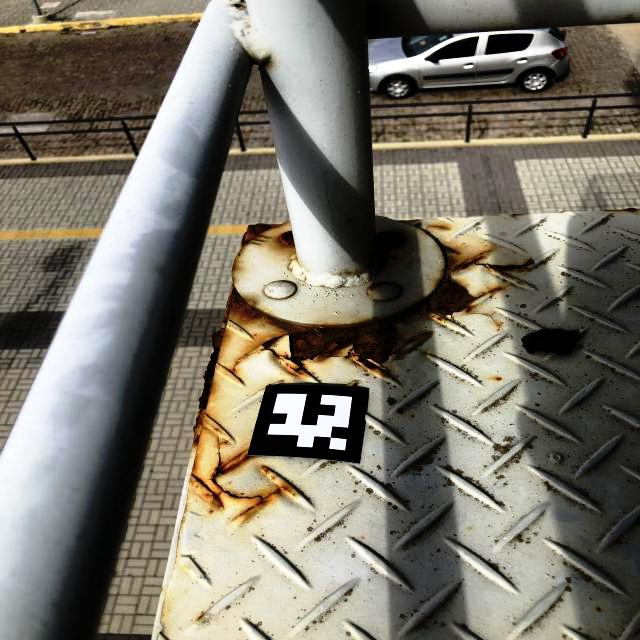Corrosion: (192, 243, 529, 451), (241, 222, 287, 248), (375, 231, 406, 248), (277, 231, 295, 246), (369, 281, 396, 291), (429, 224, 448, 230), (379, 250, 385, 264), (391, 256, 398, 260)
